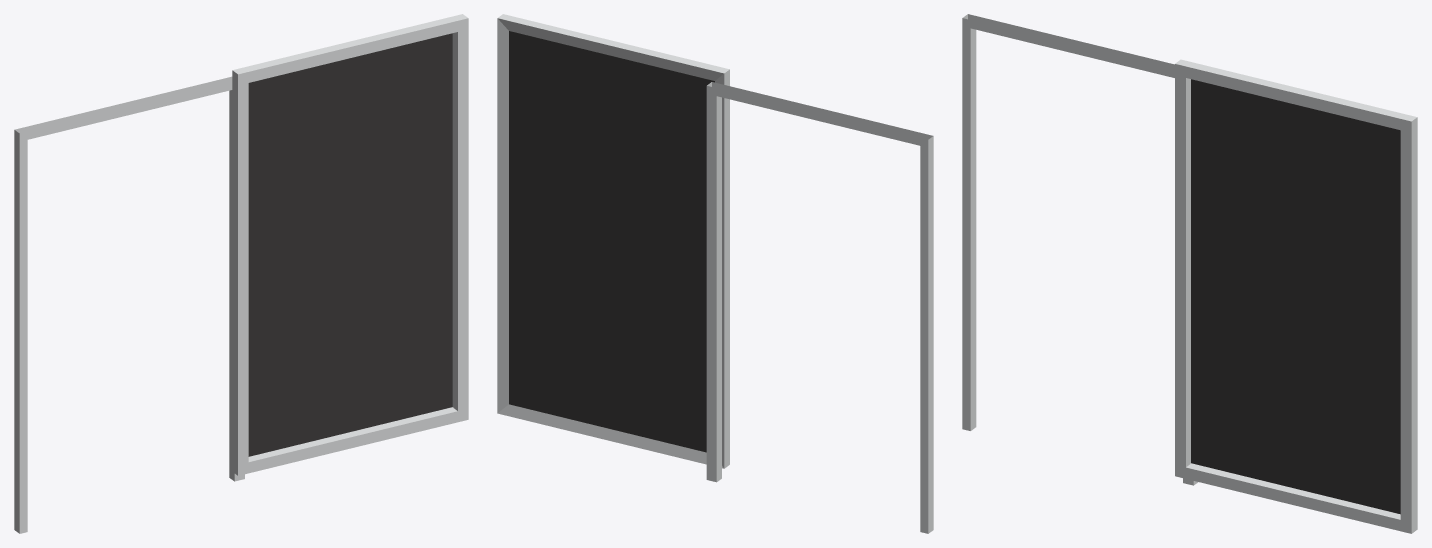
The model's file is M_WCmen02.FBX.
3 views of the same model, side by side, from view 1: azimuth 30°, elevation 25°; view 2: azimuth 150°, elevation 25°; view 3: azimuth 330°, elevation 25° (orthographic). The views are drawn at different scales.
Parts seen in each view (by area): view 1: M_WCmen02_02, M_WCmen02_01, M_WCmen02_03; view 2: M_WCmen02_02, M_WCmen02_01; view 3: M_WCmen02_02, M_WCmen02_01, M_WCmen02_03.
Part boxes in pixels (<box>): M_WCmen02_02: <box>248,33,452,456</box>; M_WCmen02_01: <box>14,14,468,533</box>; M_WCmen02_03: <box>248,33,453,457</box>; M_WCmen02_02: <box>509,31,714,452</box>; M_WCmen02_01: <box>497,14,933,533</box>; M_WCmen02_02: <box>1191,79,1400,514</box>; M_WCmen02_01: <box>962,14,1417,533</box>; M_WCmen02_03: <box>1190,79,1400,515</box>.
Bounding box in the file's own units: 3.33 × 2.96 × 0.1449.
